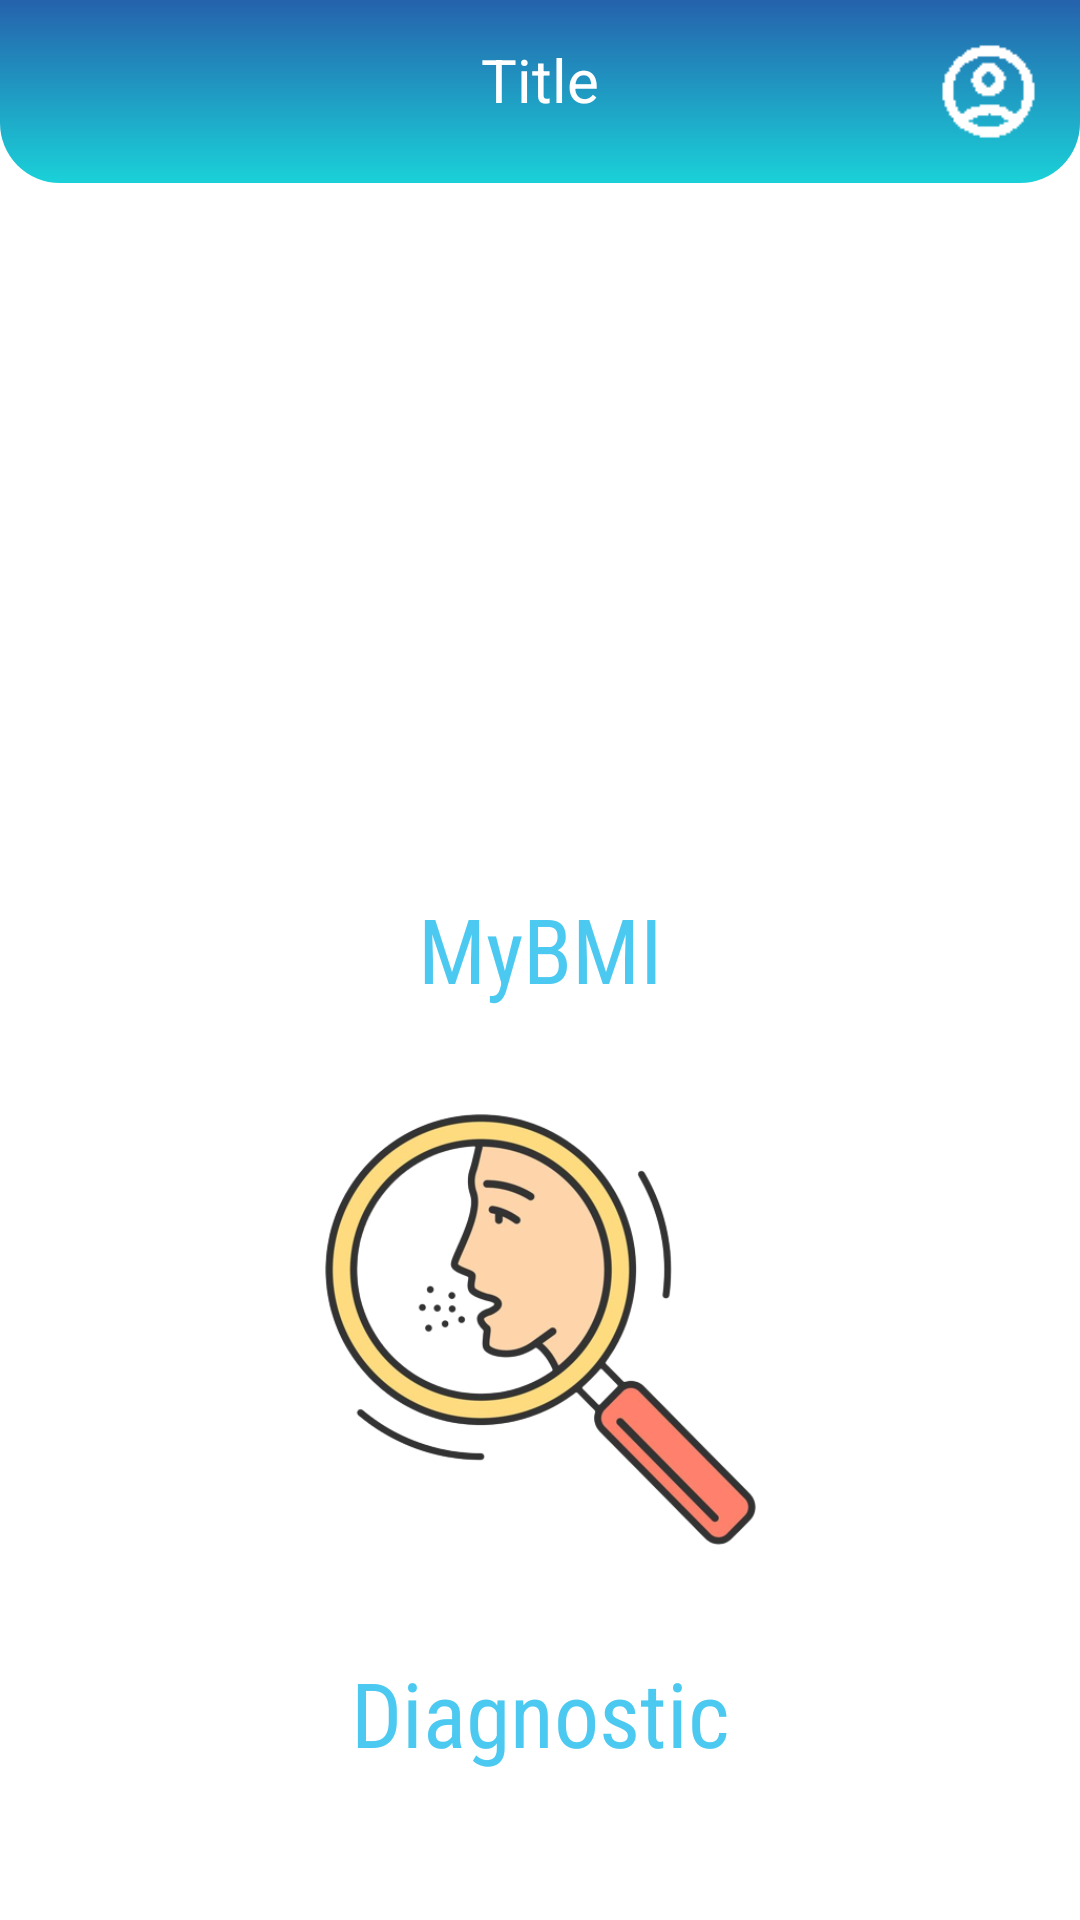

Point at icon controls on the screen. Image size 1080*1920, points as (x,y).
profilebtn: (988,91)
